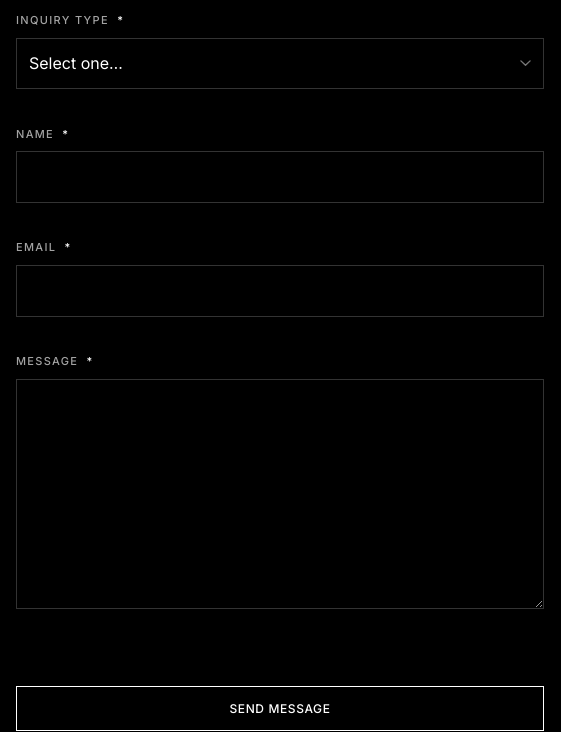
Test case: ContactView › captures input for an adaptive field and validates it on blur
Step 1. Select "Licensing" in the dropdown with id "inquiry" → [280, 63], box [16,38,544,89]
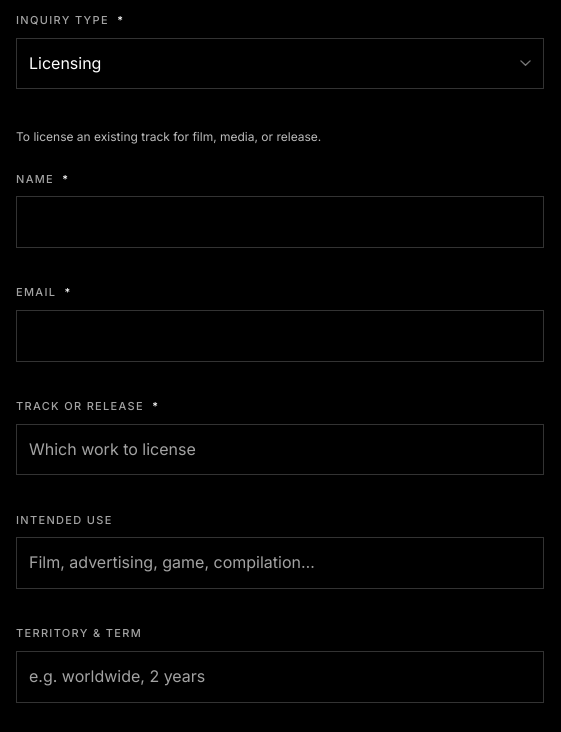
Step 2. Type "Overlapse" into the field with id "track" → [280, 450], box [16,424,544,475]
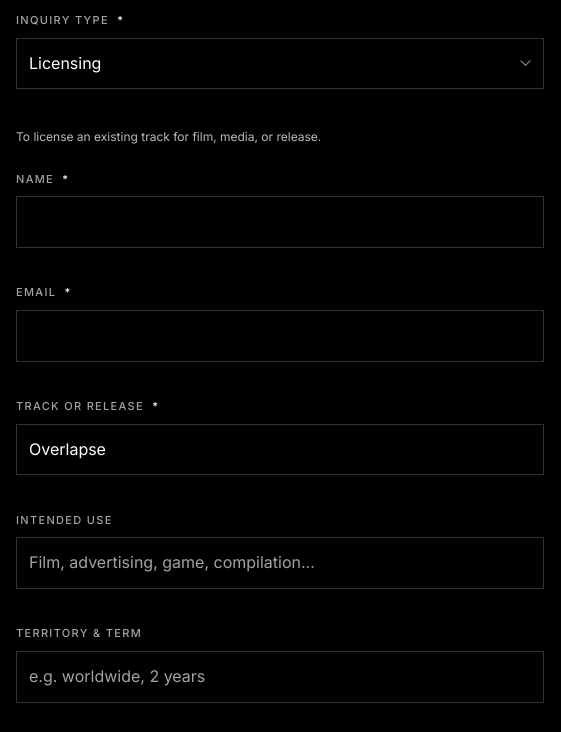
Step 3. Clear the field with id "track" → [280, 450], box [16,424,544,475]
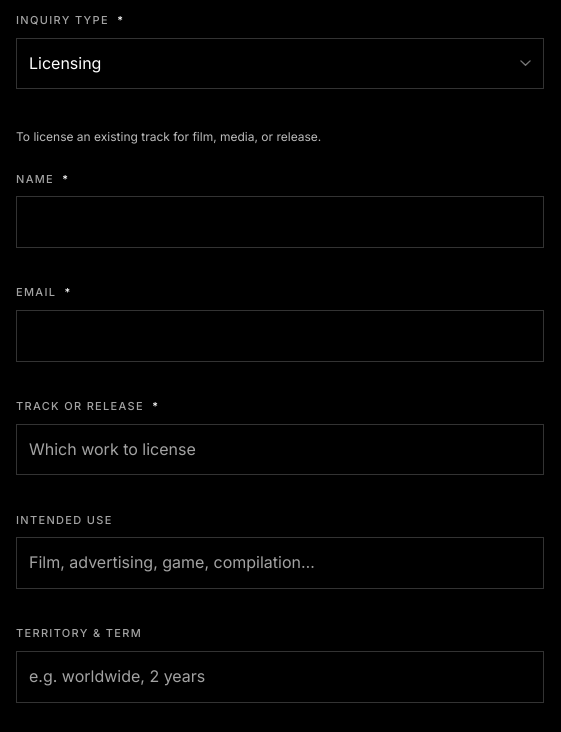
Step 4. Leave the field with id "track", box [16,424,544,475]
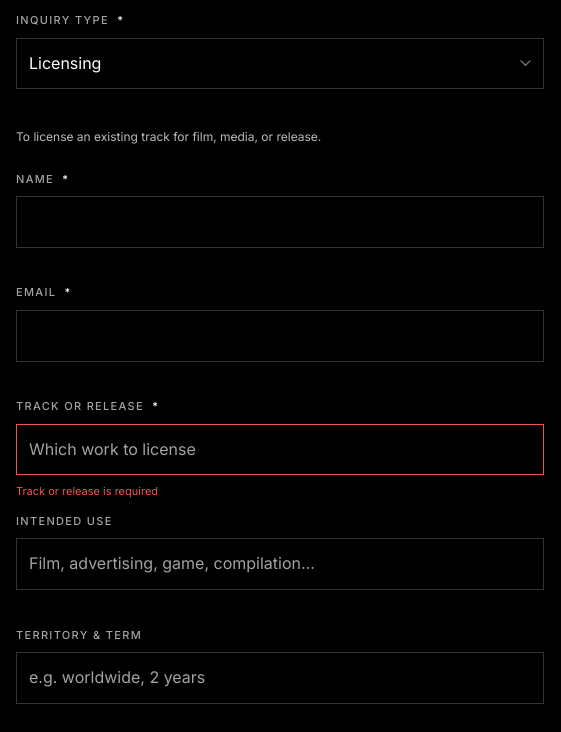
Check: the message with id "track-error" reads "Track or release is required", box [16,484,158,498]
